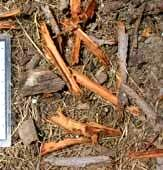Ganoderma - Fruit Body: (127, 146, 163, 161)
